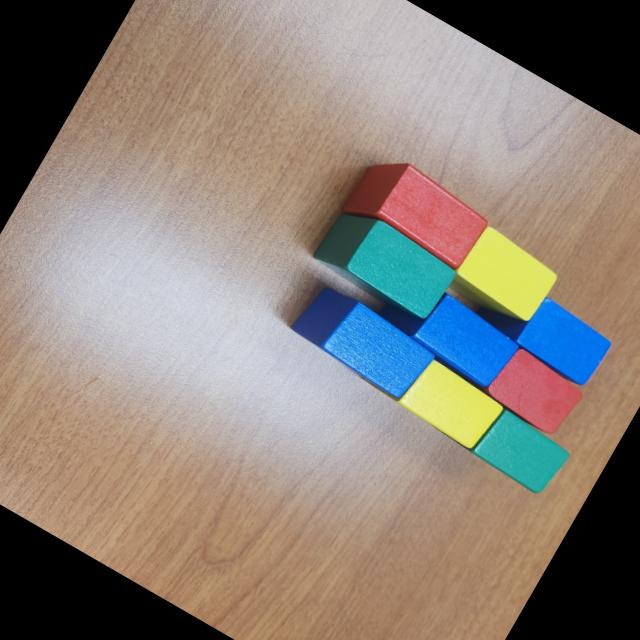blue: (284, 278, 443, 408), (378, 272, 526, 395), (469, 271, 616, 392)
green: (308, 198, 461, 328), (428, 382, 576, 502)
red: (340, 146, 493, 276), (482, 344, 588, 441)
yellow: (358, 332, 508, 454), (444, 222, 564, 334)
